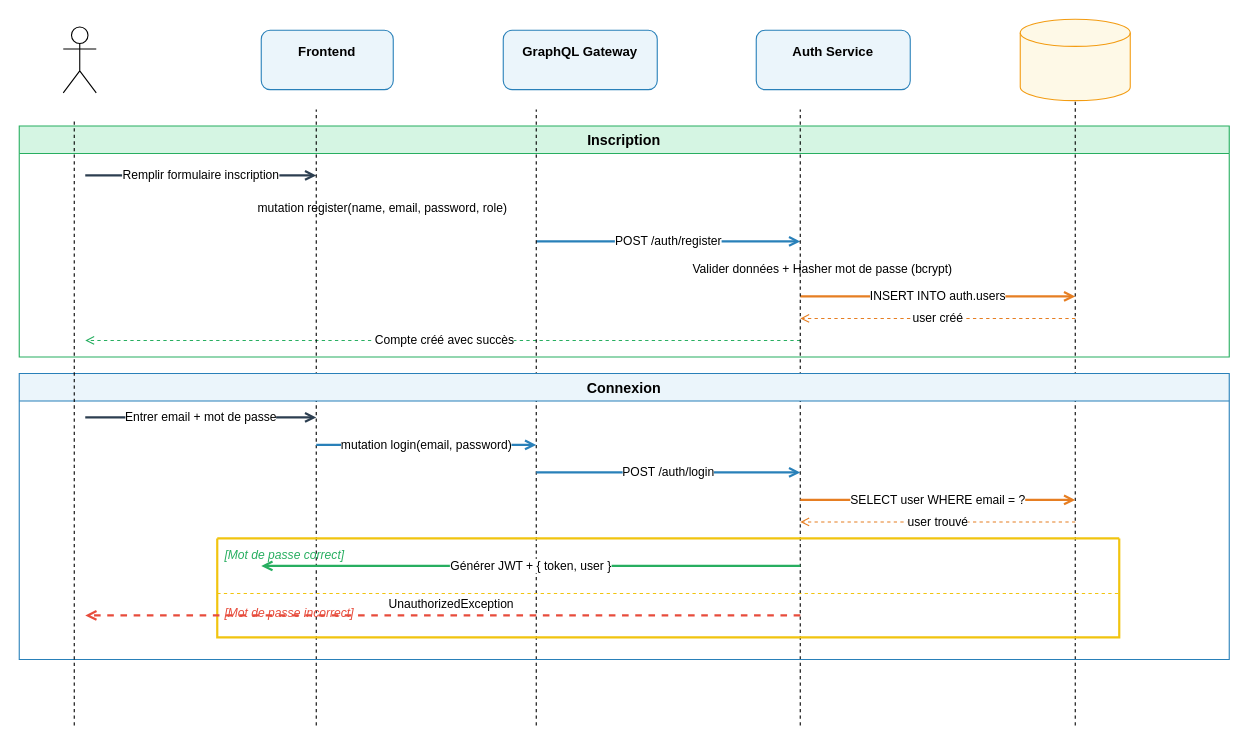
This 1249x746 diagram has some shape labels left out. Each missing label, with the centre of its shape:
PostgreSQL (auth schema): the point at 1074,59
utilisateur: the point at 79,59
